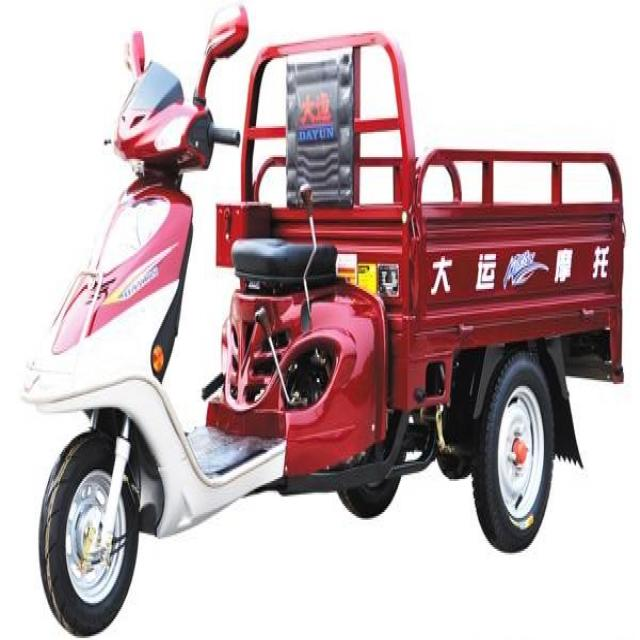tricycle: (17, 4, 625, 638)
